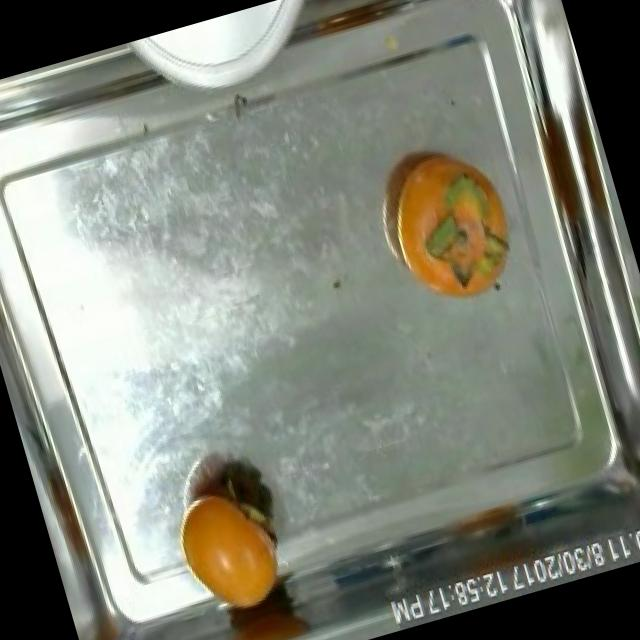Fruit: (364, 120, 534, 324), (156, 456, 309, 632)
